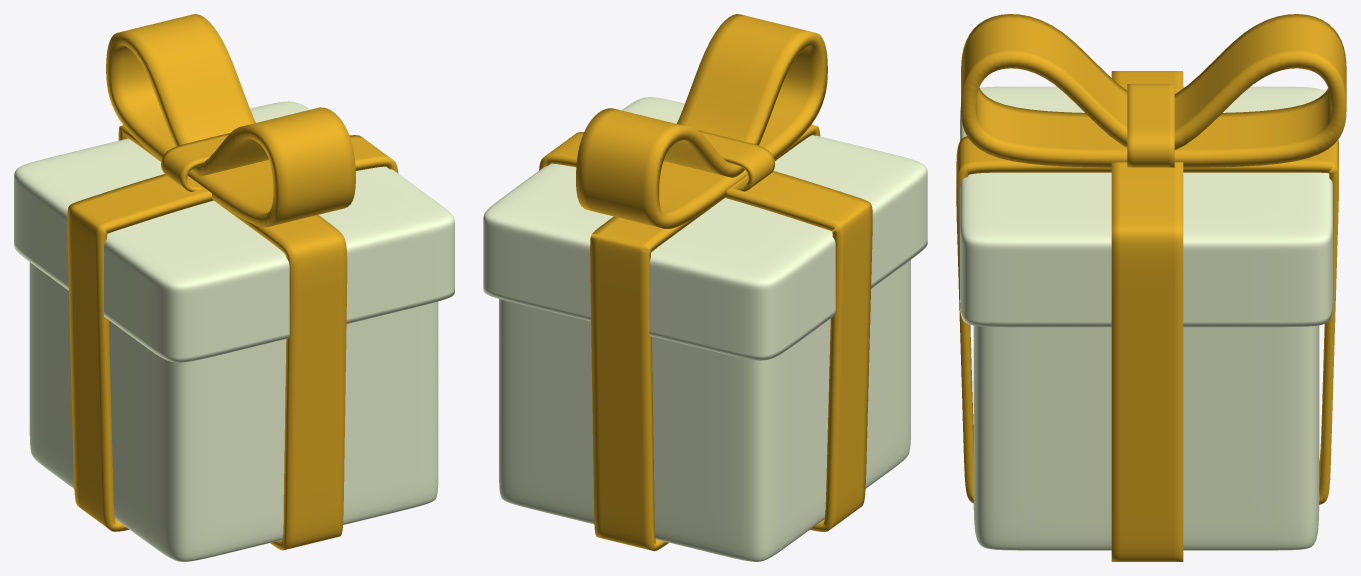
File: NewGiftBox.fbx
3 renders of one model, left to right at view 1: azimuth 30°, elevation 25°; view 2: azimuth 150°, elevation 25°; view 3: azimuth 270°, elevation 25°, orthographic. The views are drawn at different scales.
Visible parts, largest first — view 1: Cube; view 2: Cube; view 3: Cube.
Boxes of the visible parts, <box> form: Cube: <box>14,14,454,561</box>; Cube: <box>483,14,927,561</box>; Cube: <box>956,14,1346,561</box>.
Size of the model in its own units: 221 by 292 by 226.
